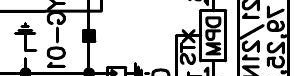115_gs: (13, 21, 38, 62)
DPM: (199, 9, 227, 62)
